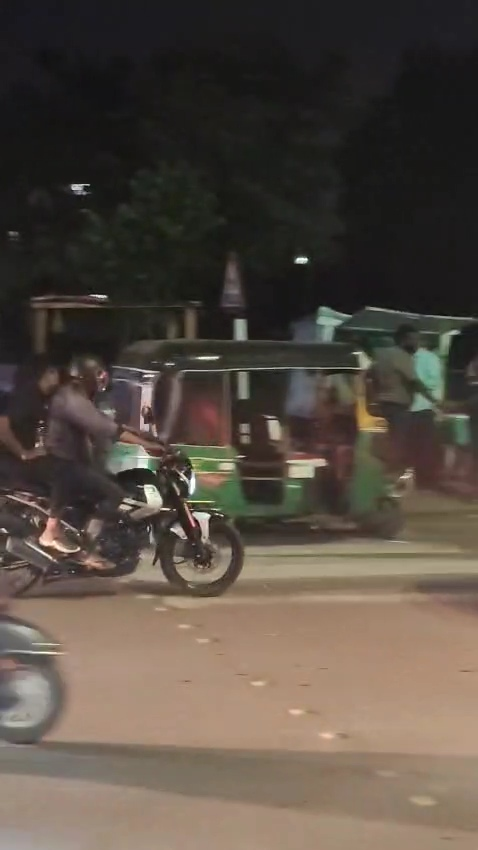BikeWithRider: (0, 342, 256, 606)
Helmet: (58, 347, 120, 400)
